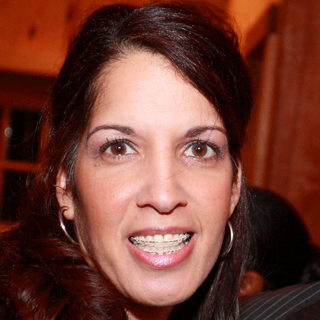eye: (176, 134, 224, 166), (96, 134, 141, 163)
